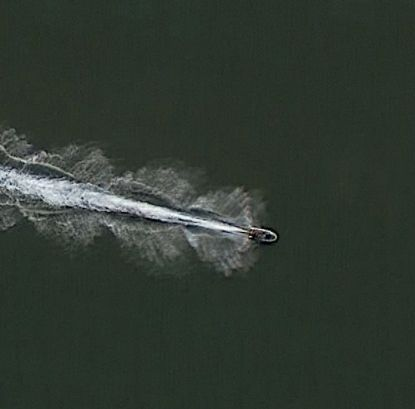boat: (241, 222, 280, 246)
